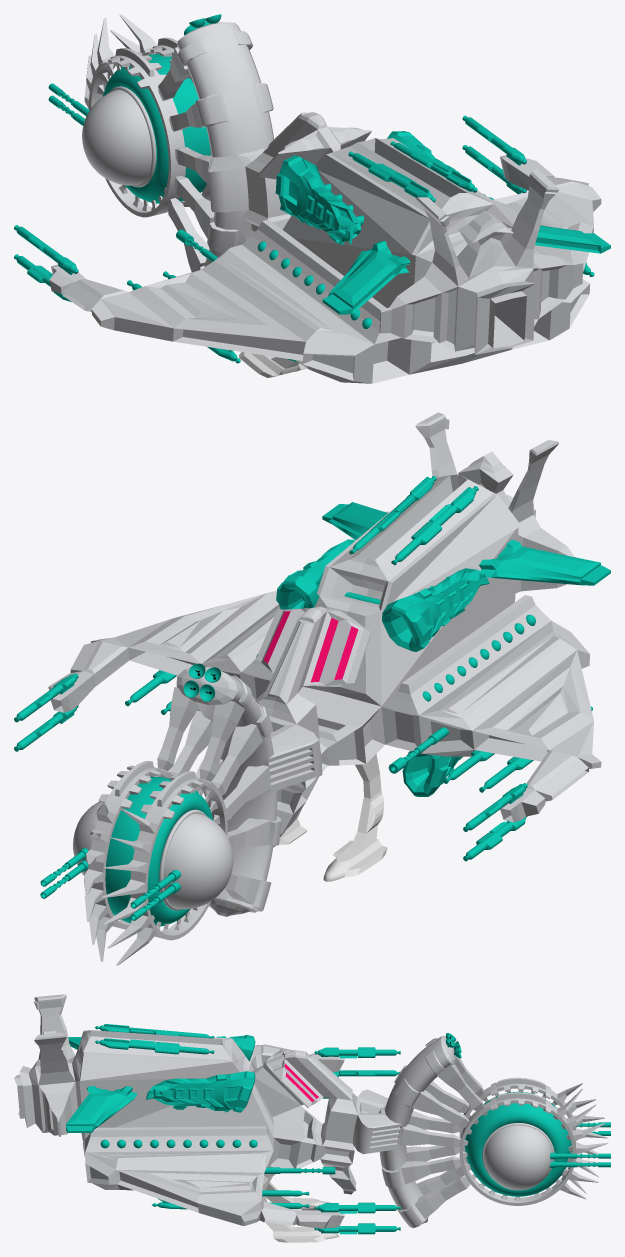
The model's file is webappShip.gltf.
3 renders of one model, top to bottom at view 1: azimuth 30°, elevation 25°; view 2: azimuth 150°, elevation 25°; view 3: azimuth 270°, elevation 25°, orthographic. The views are drawn at different scales.
Visible parts, largest first — view 1: Torus005, Tube018, Sphere0467803, Box00335687, Torus006, Box0043568, Tube019, Cha3456mferCyl018, Box335690, Chamf3456erCyl019, ChamferC27yl022, ChamferCyl02427 (+4 smaller); view 2: Torus005, Tube018, Tube019, Torus006, Box00335687, Sphere0467803, Box0043568, Box335690, Box0053568, Box0062727, Cha3456mferCyl018, Chamf3456erCyl019 (+4 smaller); view 3: Torus005, Tube019, Tube018, Torus006, Sph345634ere004, Box0053568, Box00335687, Box335689, Chamf3456erCyl019, ChamferC27yl022, ChamferCyl02427, Cha3456mferCyl018 (+4 smaller).
Part boxes in pixels (left/top/right/bottom): Torus005: left=49, top=22, right=601, bottom=383; Tube018: left=84, top=18, right=214, bottom=272; Sphere0467803: left=82, top=90, right=151, bottom=185; Box00335687: left=322, top=225, right=610, bottom=314; Torus006: left=103, top=54, right=210, bottom=203; Box0043568: left=275, top=155, right=361, bottom=244; Tube019: left=110, top=14, right=211, bottom=206; Cha3456mferCyl018: left=348, top=151, right=435, bottom=202; Box335690: left=239, top=352, right=306, bottom=377; Chamf3456erCyl019: left=390, top=141, right=477, bottom=192; ChamferC27yl022: left=14, top=225, right=78, bottom=274; ChamferCyl02427: left=462, top=115, right=526, bottom=165; Torus005: left=48, top=412, right=601, bottom=916; Tube018: left=101, top=701, right=270, bottom=965; Tube019: left=84, top=687, right=223, bottom=961; Torus006: left=105, top=777, right=213, bottom=926; Box00335687: left=322, top=502, right=610, bottom=585; Sphere0467803: left=163, top=813, right=233, bottom=909; Box0043568: left=382, top=568, right=489, bottom=651; Box335690: left=323, top=754, right=387, bottom=881; Box0053568: left=276, top=539, right=354, bottom=609; Box0062727: left=402, top=751, right=462, bottom=796; Cha3456mferCyl018: left=391, top=486, right=478, bottom=565; Chamf3456erCyl019: left=349, top=476, right=436, bottom=554; Torus005: left=14, top=994, right=455, bottom=1228; Tube019: left=400, top=1064, right=608, bottom=1218; Tube018: left=406, top=1056, right=607, bottom=1194; Torus006: left=464, top=1091, right=571, bottom=1196; Sph345634ere004: left=484, top=1125, right=552, bottom=1190; Box0053568: left=146, top=1071, right=255, bottom=1112; Box00335687: left=66, top=1037, right=137, bottom=1132; Box335689: left=261, top=1167, right=338, bottom=1242; Chamf3456erCyl019: left=95, top=1038, right=214, bottom=1054; ChamferC27yl022: left=314, top=1047, right=400, bottom=1058; ChamferCyl02427: left=314, top=1202, right=400, bottom=1213; Cha3456mferCyl018: left=95, top=1024, right=214, bottom=1038.
Bounding box in the file's own units: 3.76 × 2.08 × 5.43.
